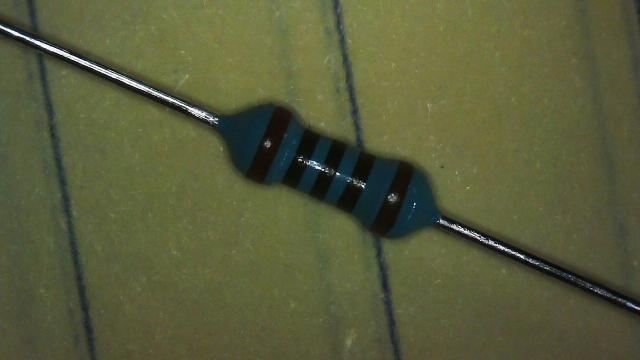black: (337, 152, 374, 212), (282, 129, 319, 188), (314, 141, 344, 196)
brown: (246, 106, 291, 183), (370, 162, 414, 236)
resistor: (203, 81, 456, 270)
